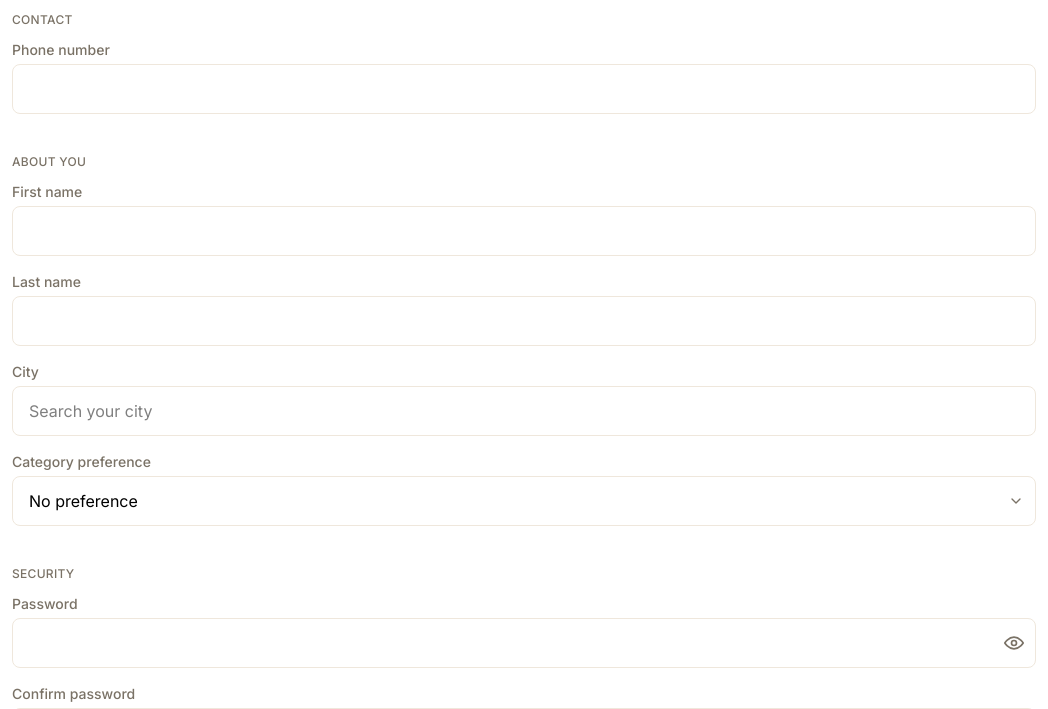
Test: RegisterForm › shows a phone error after blurring an invalid phone field
Type "123" into the field labelled "Phone number" at (524, 89), box [12,64,1036,114]
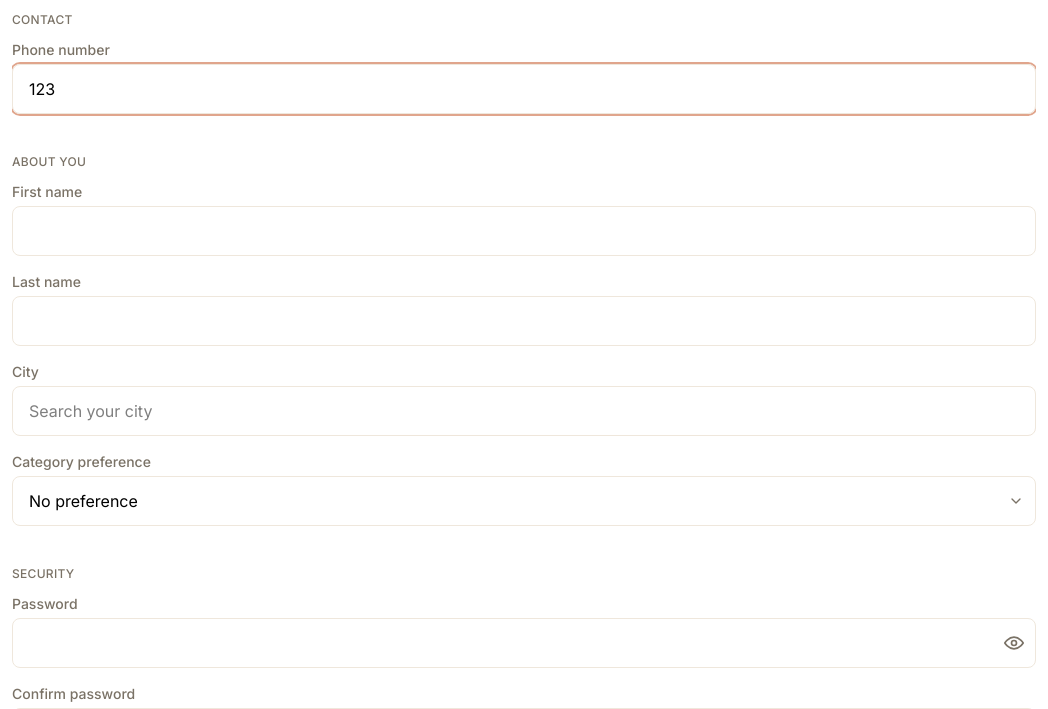
Press Tab
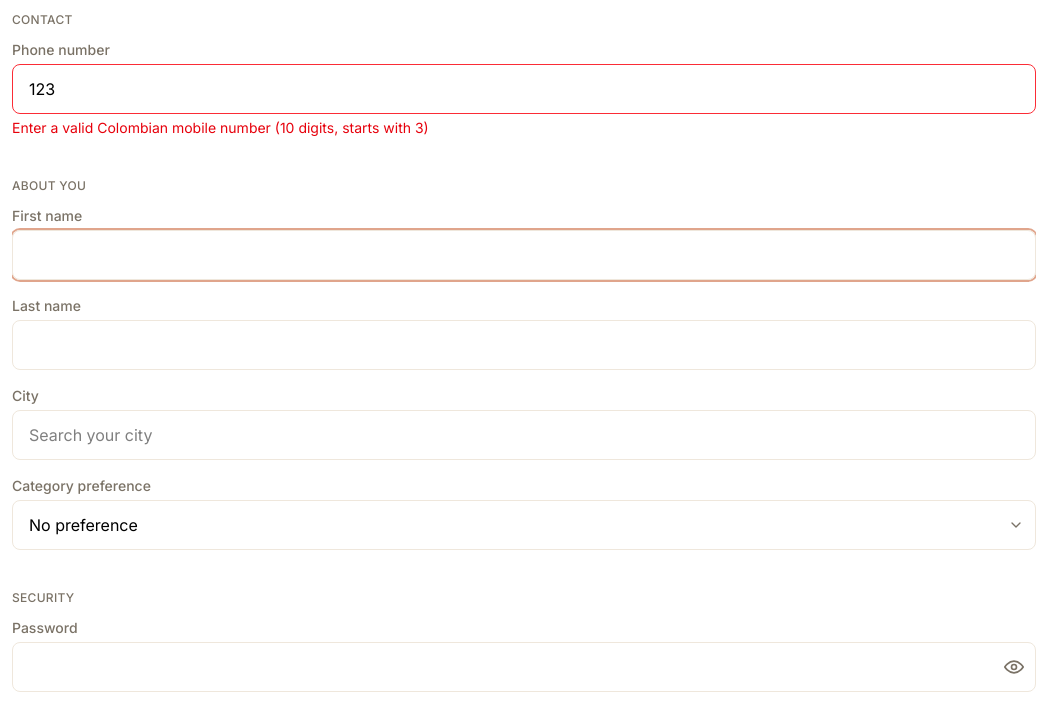
expect the message shows "valid Colombian mobile number": met, box [12,119,429,136]
